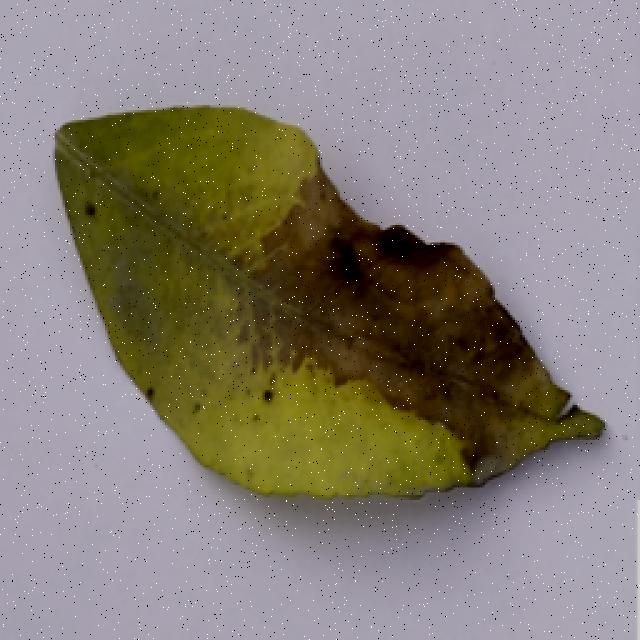blackspot: (47, 96, 624, 526)
